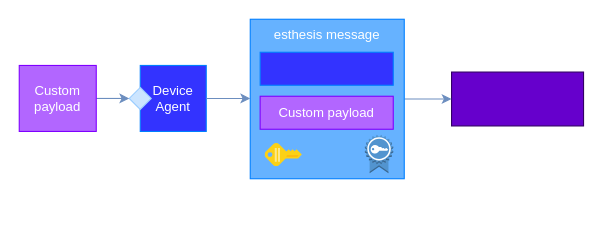
This 603x227 diagram has some shape labels left out. The centre of each missing label's shape, as x and y in pixels:
esthesis headers: the point at 326,68
MQTT server: the point at 517,98
